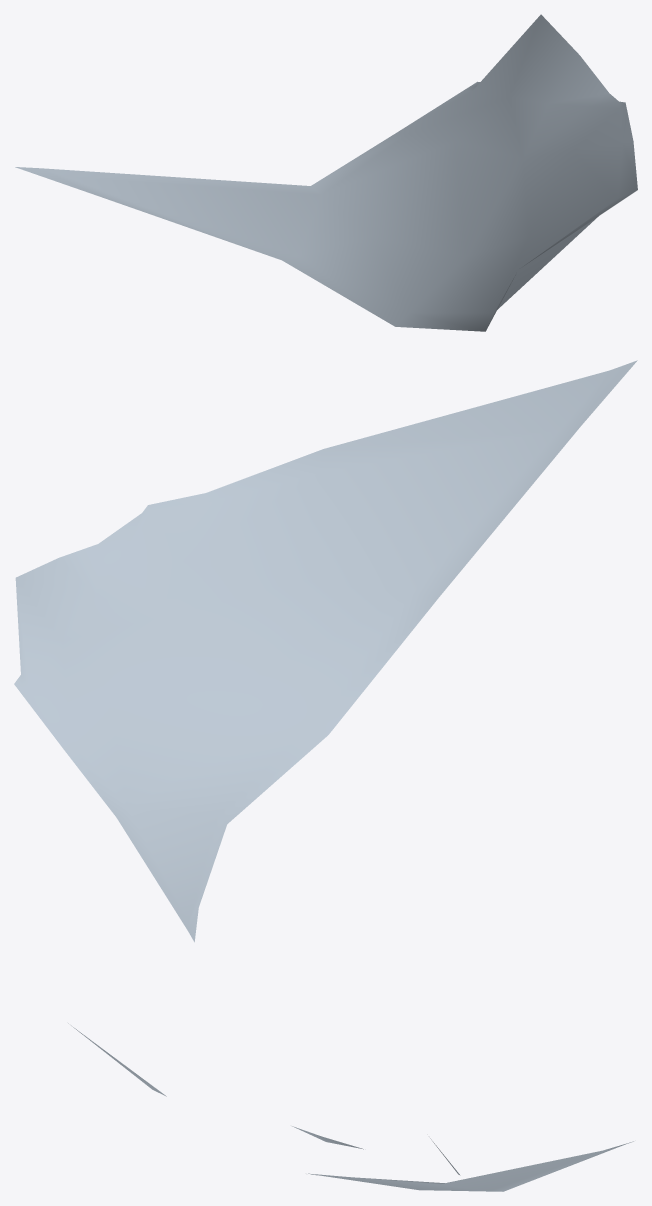
The model's file is transverse-acetabular-ligament-r.glb.
3 views of the same model, one above another, from view 1: azimuth 30°, elevation 25°; view 2: azimuth 150°, elevation 25°; view 3: azimuth 270°, elevation 25° (orthographic). The views are drawn at different scales.
Visible parts, largest first — view 1: Transverse acetabular ligament.r; view 2: Transverse acetabular ligament.r; view 3: Transverse acetabular ligament.r.
Boxes of the visible parts, left/top/right/bottom form: Transverse acetabular ligament.r: left=15, top=14, right=637, bottom=331; Transverse acetabular ligament.r: left=14, top=360, right=637, bottom=942; Transverse acetabular ligament.r: left=68, top=1023, right=633, bottom=1191.
Size of the model in its own units: 0.0178 by 0.0133 by 0.0419.
